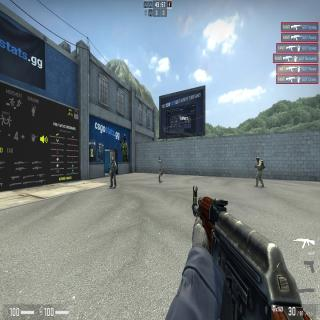CT-Body: (255, 156, 263, 187), (110, 156, 116, 188)
CT-Head: (256, 157, 260, 163), (111, 157, 114, 163)
